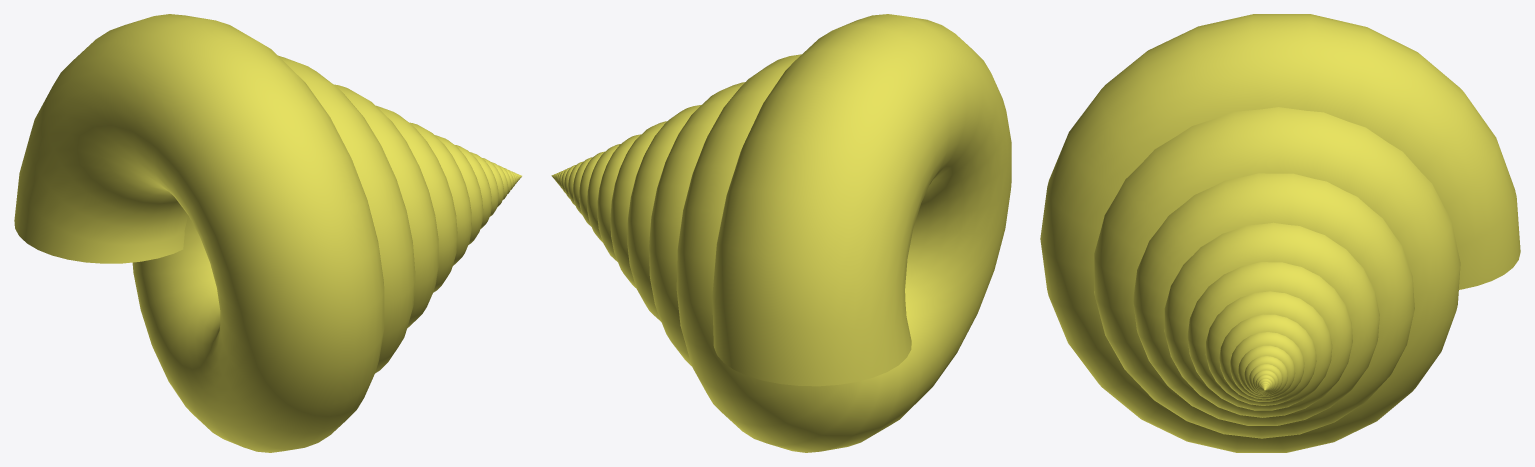
The picture shows the model from 3 angles, left to right: view 1: azimuth 30°, elevation 25°; view 2: azimuth 150°, elevation 25°; view 3: azimuth 270°, elevation 25°; orthographic projection. The views are drawn at different scales.
Visible parts, largest first — view 1: t12; view 2: t12; view 3: t12.
Boxes of the visible parts, x1,y1,x2,y2 form: t12: [14, 14, 521, 452]; t12: [551, 14, 1011, 452]; t12: [1040, 14, 1520, 452].
Bounding box in the file's own units: 500 × 464 × 498.
